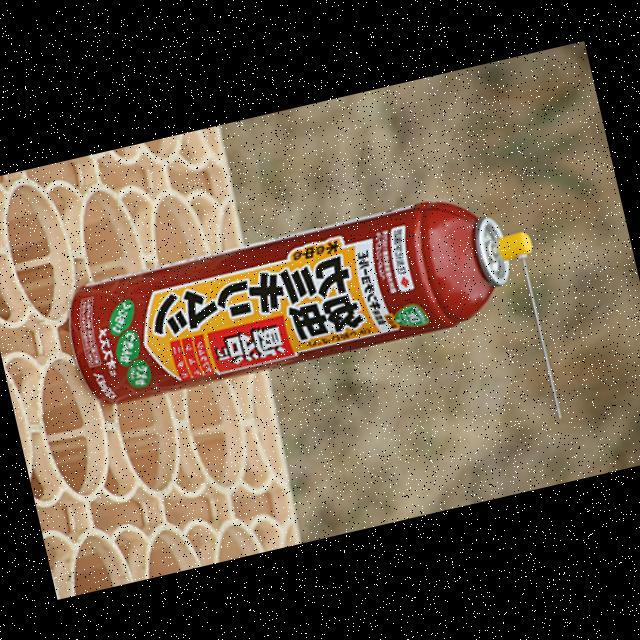chemical_spray_can: (37, 145, 567, 439)
